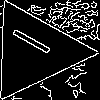I: (9, 26, 62, 62)
